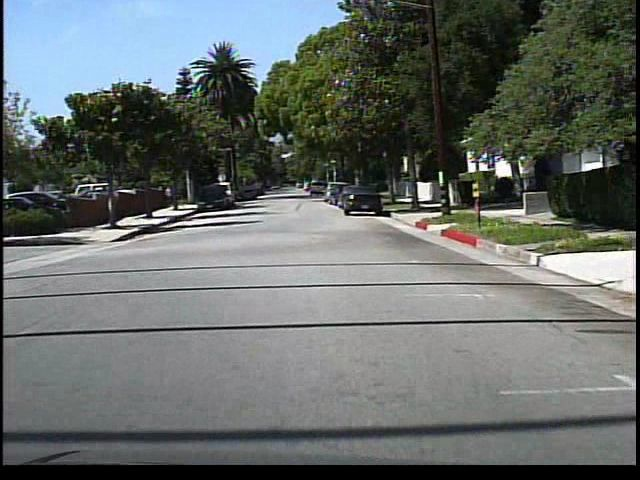person: (163, 181, 177, 208)
